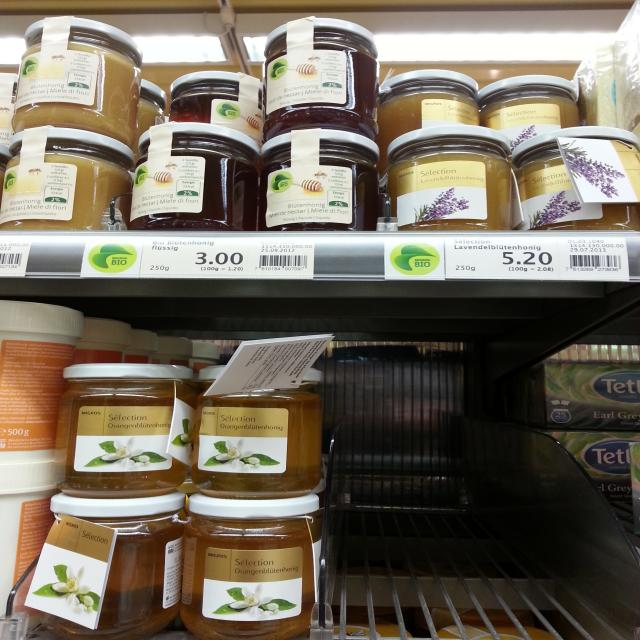Spreads: (30, 491, 182, 640), (187, 490, 326, 640), (50, 363, 194, 496), (198, 362, 330, 497), (16, 18, 143, 153), (378, 122, 521, 232), (252, 18, 384, 137), (0, 129, 134, 238), (134, 126, 268, 233), (257, 127, 386, 234), (511, 123, 640, 229), (370, 66, 486, 148), (475, 75, 595, 142), (156, 71, 271, 134)
